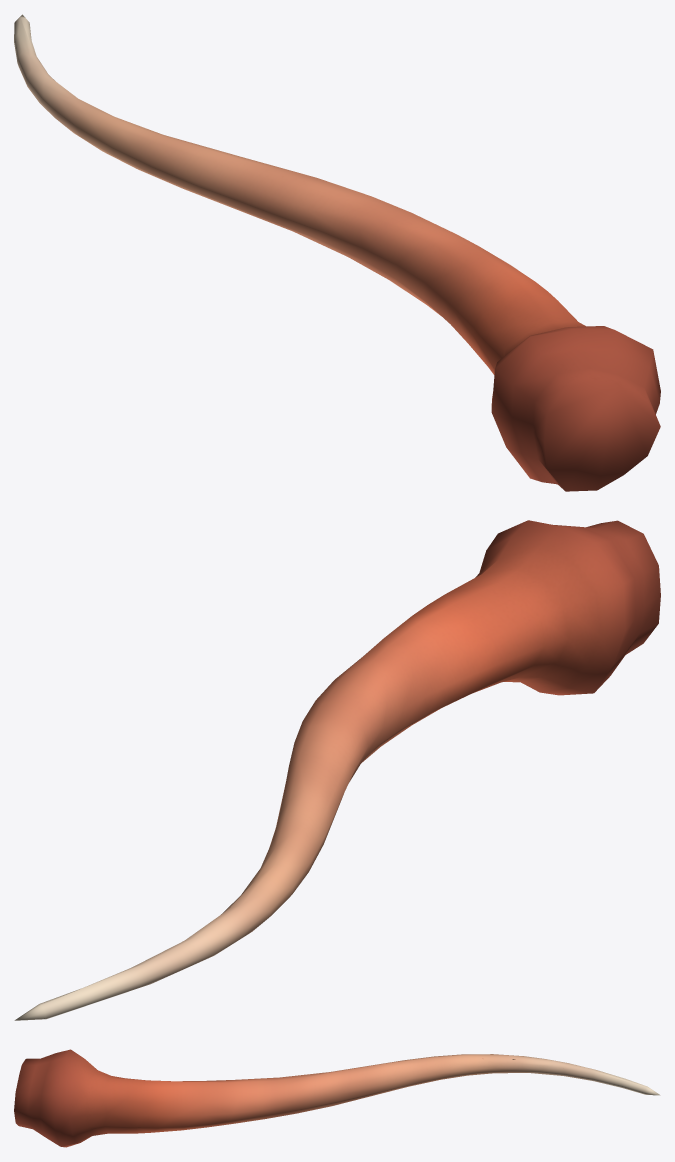
The model's file is part_flagellum.glb.
3 views of the same model, one above another, from view 1: azimuth 30°, elevation 25°; view 2: azimuth 150°, elevation 25°; view 3: azimuth 270°, elevation 25° (orthographic). The views are drawn at different scales.
Parts seen in each view (by area): view 1: Flagellum; view 2: Flagellum; view 3: Flagellum.
Part boxes in pixels (bbox=[...]): Flagellum: bbox=[14, 14, 660, 491]; Flagellum: bbox=[14, 520, 660, 1020]; Flagellum: bbox=[14, 1049, 660, 1147].
Bounding box in the file's own units: 0.146 × 0.1198 × 0.7897.
1 material, 1 textured.
